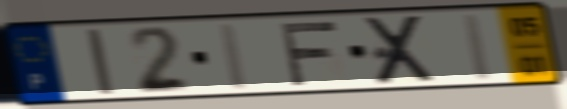2: (125, 24, 194, 96)
F: (275, 18, 341, 88)
I: (215, 20, 254, 93), (459, 11, 497, 83), (81, 26, 118, 98)
X: (361, 13, 441, 88)
